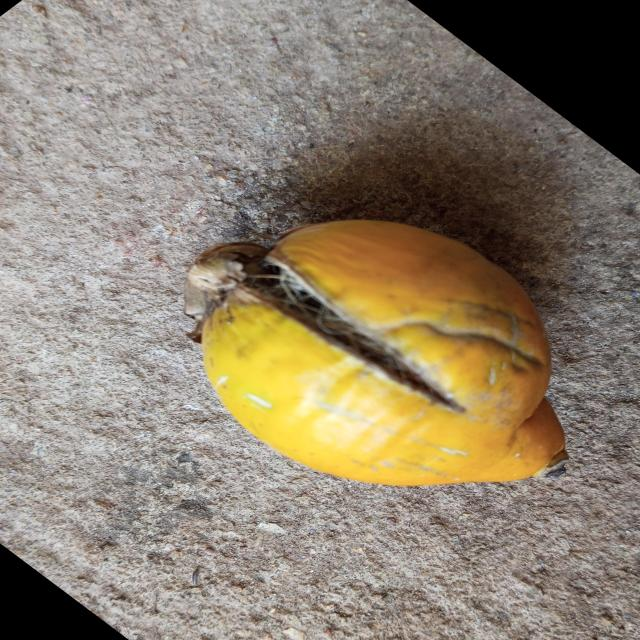damaged: (184, 220, 567, 485)
